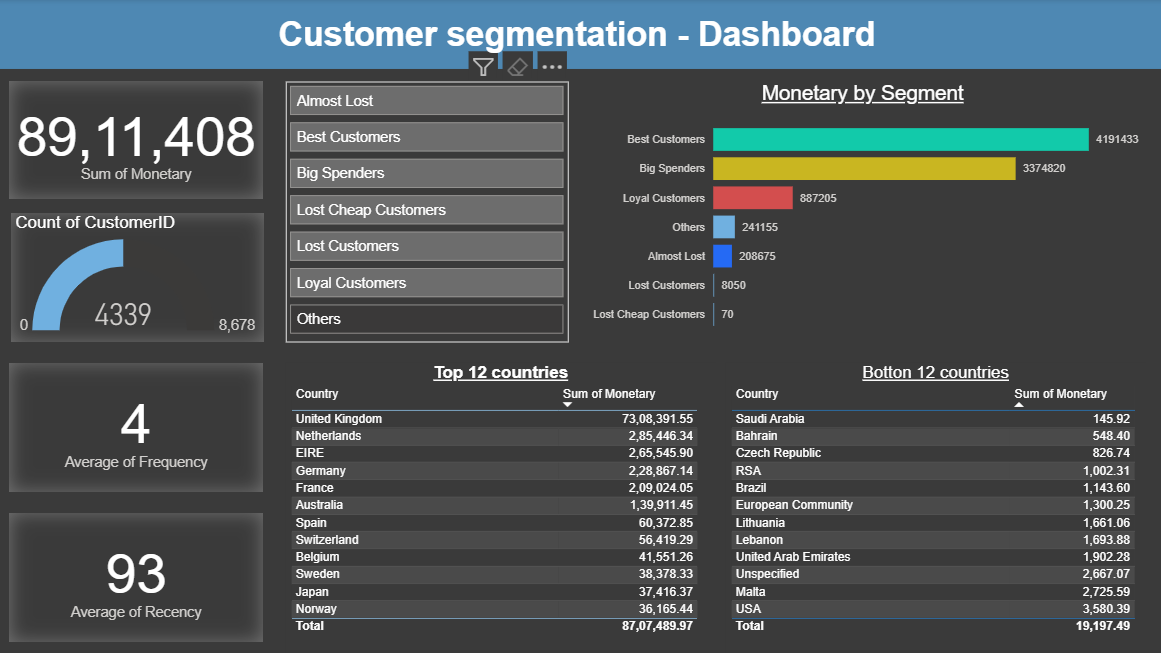

The page's visual inventory and layout, read from the dashboard file:
{"tool":"powerbi","page":{"name":"Page 1","canvas":[1280,720],"ordinal":0},"visuals":[{"type":"shape","box":[0,0,1280.3,76.8],"z":1000},{"type":"tableEx","title":"Top 12 countries","fields":{"Values":["Customer_Segmentation_Dataset.Country","Sum(Customer_Segmentation_Dataset.Monetary)"]},"box":[317,399.3,472,321.1],"z":3000},{"type":"card","fields":{"Values":["Sum(Customer_Segmentation_Dataset.Monetary)"]},"box":[13.7,90.6,278.6,129],"z":4000},{"type":"gauge","fields":{"Y":["Count(Customer_Segmentation_Dataset.CustomerID)"]},"box":[15.1,234.6,278.6,142.7],"z":5000},{"type":"advancedSlicerVisual","fields":{"Values":["Customer_Segmentation_Dataset.Segment"]},"box":[317,90.6,310.1,286.8],"z":6000},{"type":"card","fields":{"Values":["Avg(Customer_Segmentation_Dataset.Recency)"]},"box":[13.7,564,278.6,142.7],"z":7000},{"type":"card","fields":{"Values":["Avg(Customer_Segmentation_Dataset.Frequency)"]},"box":[13.7,399.3,278.6,142.7],"z":8000},{"type":"tableEx","title":"Botton 12 countries","fields":{"Values":["Customer_Segmentation_Dataset.Country","Sum(Customer_Segmentation_Dataset.Monetary)"]},"box":[800,399.3,461.1,321.1],"z":8001},{"type":"barChart","title":" Monetary by Segment","fields":{"Category":["Customer_Segmentation_Dataset.Segment"],"Y":["Sum(Customer_Segmentation_Dataset.Monetary)"]},"box":[639.5,90.6,621.6,286.8],"z":8002},{"type":"textbox","box":[100.2,12.3,1073.1,64.5],"z":8003}]}

Visuals, with their boxes in screenshot pixels (x1, y1, x2, y2), scaled from the page's 1280x720 canvas onto the 1161x653 screenshot:
shape: 0/0/1160/70
"Top 12 countries" tableEx: 288/362/716/652
card - Sum(Customer_Segmentation_Dataset.Monetary): 12/82/265/199
gauge - Count(Customer_Segmentation_Dataset.CustomerID): 14/213/266/342
advancedSlicerVisual - Customer_Segmentation_Dataset.Segment: 288/82/569/342
card - Avg(Customer_Segmentation_Dataset.Recency): 12/512/265/641
card - Avg(Customer_Segmentation_Dataset.Frequency): 12/362/265/492
"Botton 12 countries" tableEx: 726/362/1144/652
" Monetary by Segment" barChart: 580/82/1144/342
textbox: 91/11/1064/70
